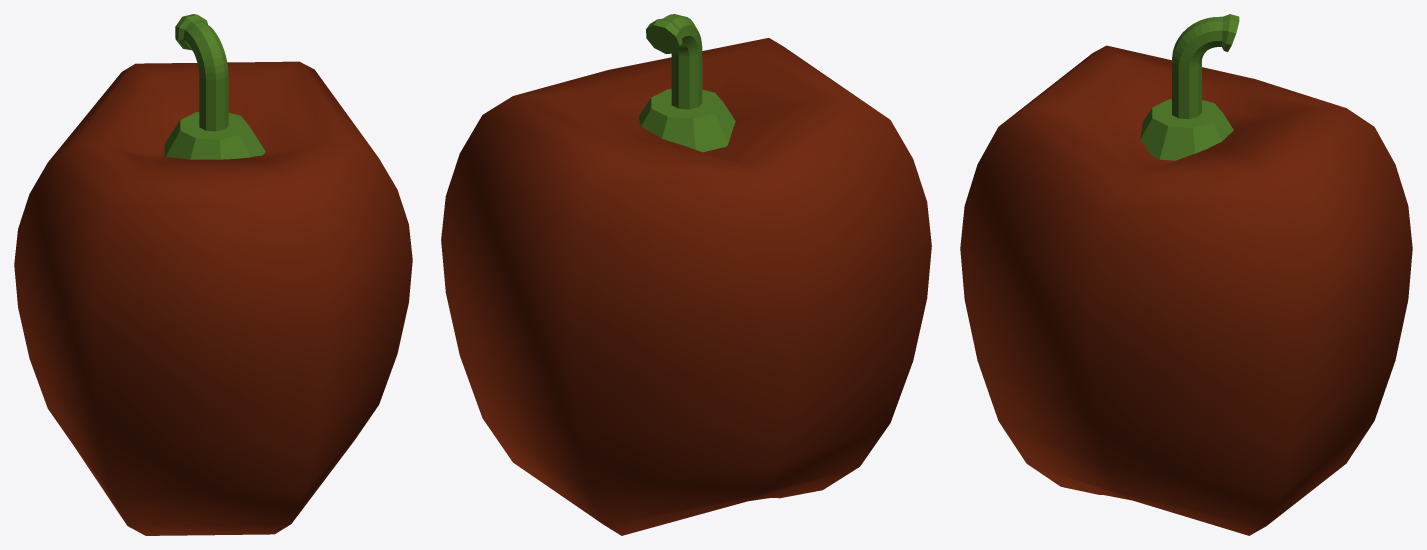
File: RedBellPepper.glb
3 renders of one model, left to right at view 1: azimuth 30°, elevation 25°; view 2: azimuth 150°, elevation 25°; view 3: azimuth 270°, elevation 25°, orthographic. The views are drawn at different scales.
Visible parts, largest first — view 1: Sphere, Short tree stump; view 2: Sphere, Short tree stump; view 3: Sphere, Short tree stump.
Part boxes in pixels (x1=…): Sphere: x1=14, y1=61, x2=412, y2=535; Short tree stump: x1=164, y1=14, x2=265, y2=159; Sphere: x1=441, y1=38, x2=931, y2=535; Short tree stump: x1=638, y1=14, x2=735, y2=152; Sphere: x1=960, y1=45, x2=1412, y2=535; Short tree stump: x1=1140, y1=14, x2=1239, y2=160.
Size of the model in its own units: 1.73 by 2.18 by 1.87.
